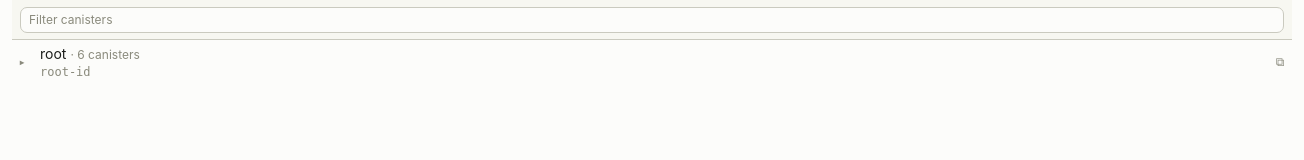
a filter matching nothing says so rather than showing an empty pane
This screenshot has width=1304, height=160.
In the search field labelled "Filter canisters": (652, 20) [20,7,1284,33], type "zzz"
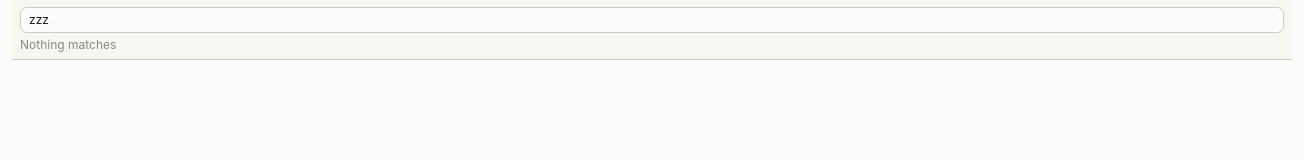
Now the text "Nothing matches" is shown, box [20,37,116,52]
